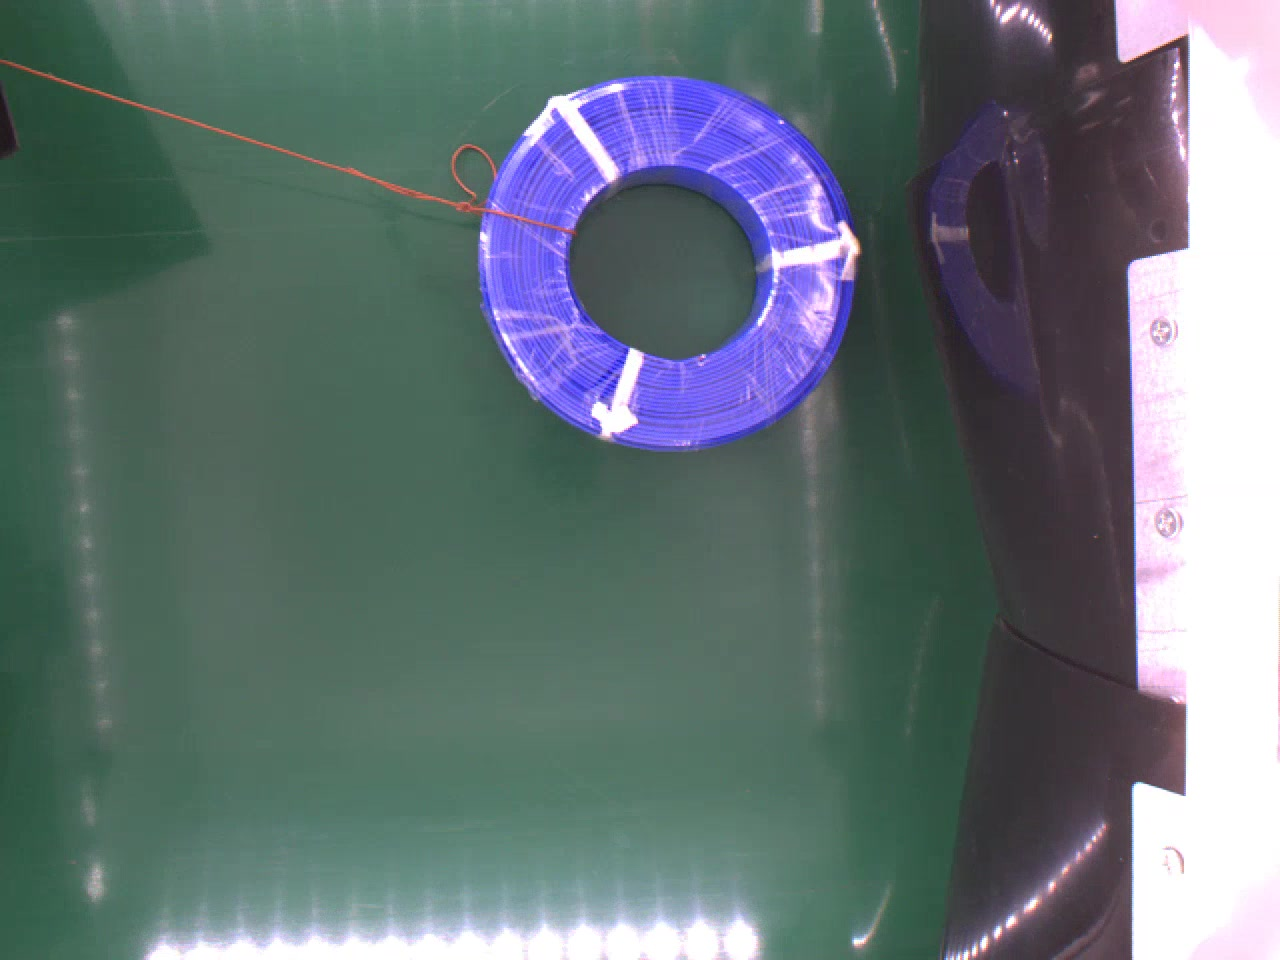blue: (478, 71, 858, 441)
